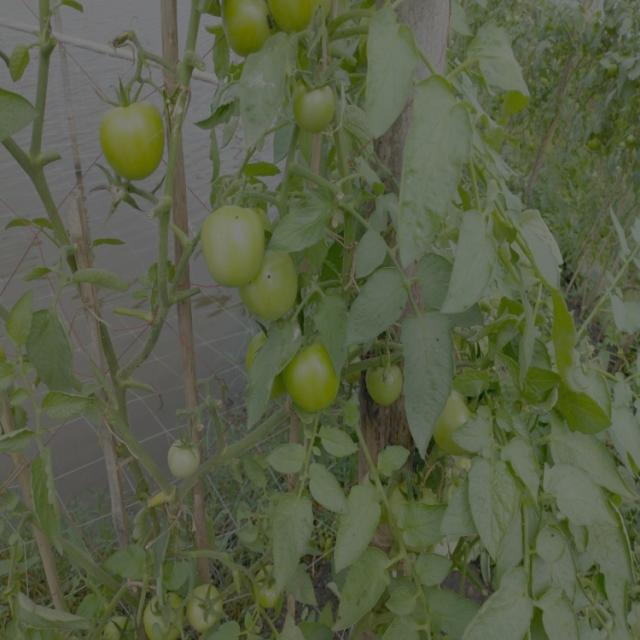tomato: (96, 102, 170, 182), (248, 241, 299, 326), (205, 206, 258, 281), (378, 474, 433, 543), (295, 340, 341, 422), (360, 358, 409, 413), (288, 85, 339, 136), (439, 396, 479, 458), (221, 3, 269, 49), (140, 601, 196, 640), (166, 442, 205, 486), (274, 1, 309, 50), (192, 587, 229, 627), (253, 578, 285, 613), (244, 330, 264, 361)
